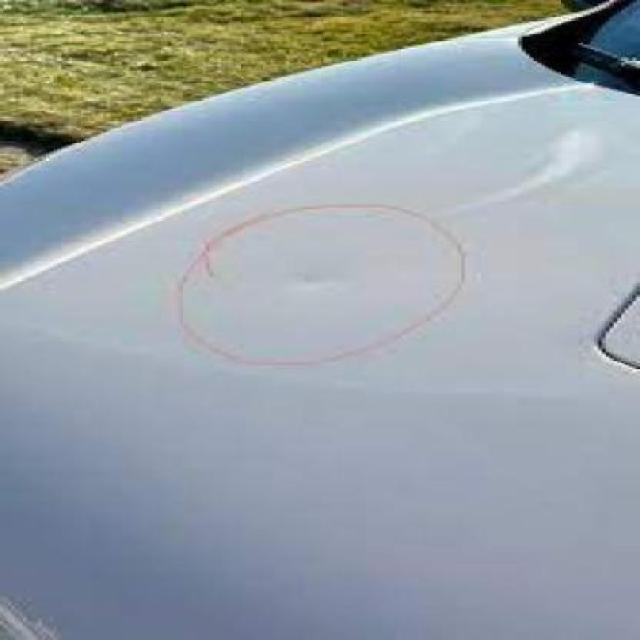bonnet-dent: (282, 258, 361, 305)
